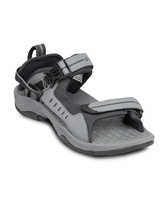shoes: (8, 42, 154, 154)
